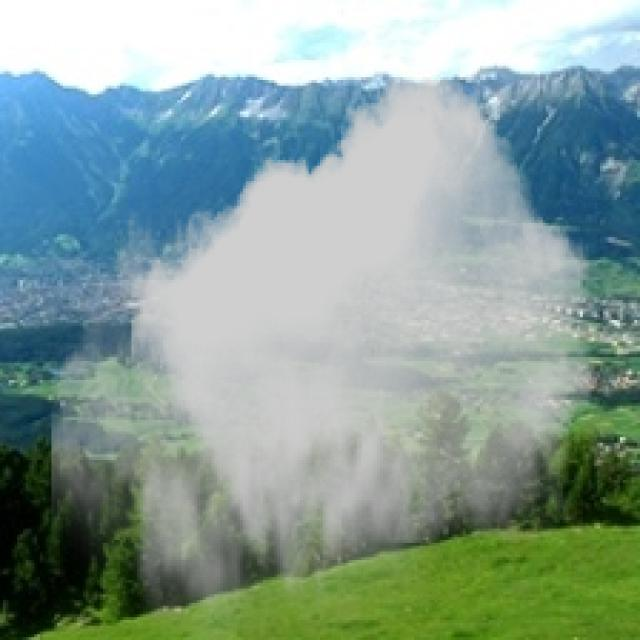smoke: (51, 77, 600, 637)
